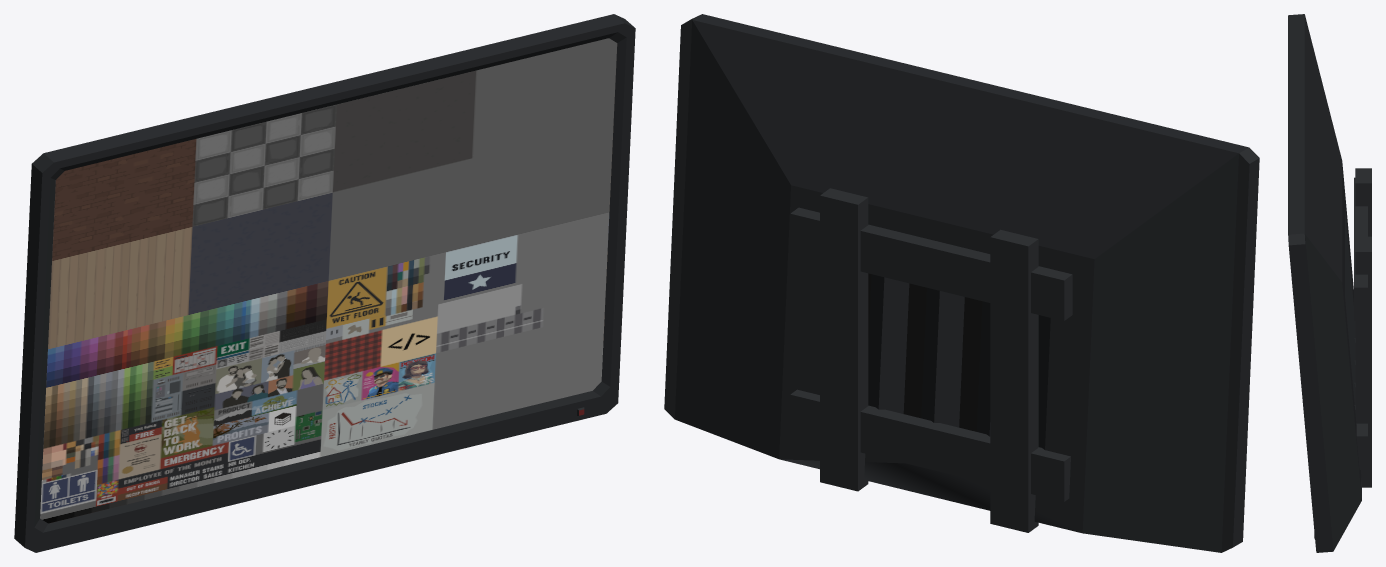
File: SM_Prop_TV_Wall_01.glb
3 views of the same model, side by side, from view 1: azimuth 30°, elevation 25°; view 2: azimuth 150°, elevation 25°; view 3: azimuth 270°, elevation 25° (orthographic). The views are drawn at different scales.
Visible parts, largest first — view 1: SM_Prop_TV_Wall_01; view 2: SM_Prop_TV_Wall_01; view 3: SM_Prop_TV_Wall_01.
Part boxes in pixels (x1,y1,x2,y2): SM_Prop_TV_Wall_01: (14,14,635,552); SM_Prop_TV_Wall_01: (664,14,1259,552); SM_Prop_TV_Wall_01: (1288,14,1371,552).
Size of the model in its own units: 1.55 by 1.02 by 0.2404.
Materials: 1 (1 with a texture image).
